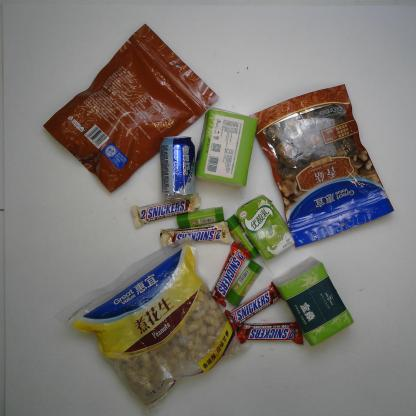Alcohol: (158, 133, 198, 201)
Chocolate: (224, 278, 287, 330), (128, 192, 204, 230), (209, 239, 250, 307), (160, 219, 234, 249), (234, 316, 306, 346)
Dried Food: (54, 234, 252, 413), (42, 21, 221, 193), (246, 82, 395, 250)
Milk: (234, 192, 295, 260)
Stationery: (227, 256, 265, 306), (223, 214, 260, 260), (172, 204, 229, 228)
Tissue: (270, 255, 354, 347), (189, 106, 262, 189)
